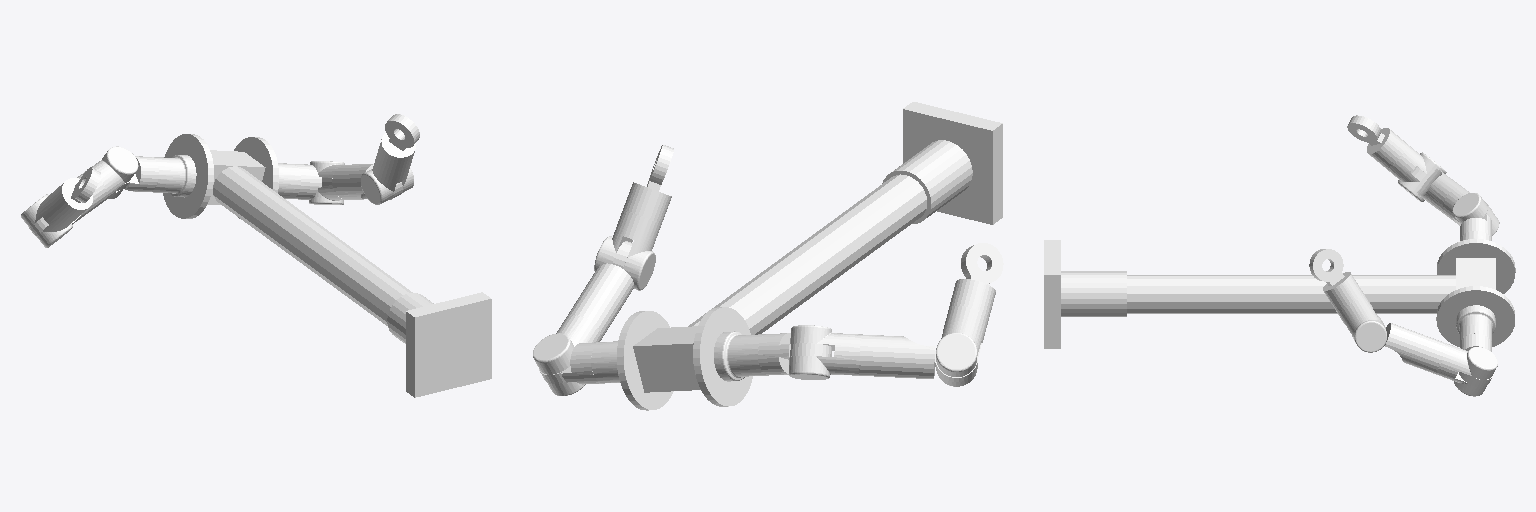
robot.urdf — double_arm_robot:
<?xml version="1.0" encoding="utf-8"?>
<!-- This URDF was automatically created by SolidWorks to URDF Exporter! Originally created by Stephen Brawner (brawner@gmail.com) 
     Commit Version: 1.6.0-4-g7f85cfe  Build Version: 1.6.7995.38578
     For more information, please see http://wiki.ros.org/sw_urdf_exporter -->
<robot
  name="double_arm_robot">
  <link
    name="base_link">
    <inertial>
      <origin
        xyz="-1.125 0.807484805961355 0.566243957566061"
        rpy="0 0 0" />
      <mass
        value="6.203760800518" />
      <inertia
        ixx="0.0551931956930665"
        ixy="-9.21965982208382E-36"
        ixz="2.30366305606409E-18"
        iyy="0.0551931956930665"
        iyz="0"
        izz="0.0400950472946025" />
    </inertial>
    <visual>
      <origin
        xyz="0 0 0"
        rpy="0 0 0" />
      <geometry>
        <mesh
          filename="package://double_arm_robot/meshes/base_link.STL" />
      </geometry>
      <material
        name="">
        <color
          rgba="1 1 1 1" />
      </material>
    </visual>
    <collision>
      <origin
        xyz="0 0 0"
        rpy="0 0 0" />
      <geometry>
        <mesh
          filename="package://double_arm_robot/meshes/base_link.STL" />
      </geometry>
    </collision>
  </link>
  <link
    name="yao_Link">
    <inertial>
      <origin
        xyz="2.77555756156289E-16 0 -0.233812061087759"
        rpy="0 0 0" />
      <mass
        value="14.975889643634" />
      <inertia
        ixx="1.68932797249582"
        ixy="0"
        ixz="3.77992531563176E-17"
        iyy="1.68475843799339"
        iyz="-2.29291639558158E-17"
        izz="0.0371712031763964" />
    </inertial>
    <visual>
      <origin
        xyz="0 0 0"
        rpy="0 0 0" />
      <geometry>
        <mesh
          filename="package://double_arm_robot/meshes/yao_Link.STL" />
      </geometry>
      <material
        name="">
        <color
          rgba="1 1 1 1" />
      </material>
    </visual>
    <collision>
      <origin
        xyz="0 0 0"
        rpy="0 0 0" />
      <geometry>
        <mesh
          filename="package://double_arm_robot/meshes/yao_Link.STL" />
      </geometry>
    </collision>
  </link>
  <joint
    name="yao_joint"
    type="continuous">
    <origin
      xyz="-1.125 0 0.80748"
      rpy="-1.5708 1.2983 -3.1416" />
    <parent
      link="base_link" />
    <child
      link="yao_Link" />
    <axis
      xyz="0 0 1" />
  </joint>
  <link
    name="r_Link">
    <inertial>
      <origin
        xyz="1.11022302462516E-16 -1.66533453693773E-16 0.0669618145391296"
        rpy="0 0 0" />
      <mass
        value="0.153305432748164" />
      <inertia
        ixx="0.000503274623701957"
        ixy="-3.79470760369927E-19"
        ixz="-5.78229015238496E-19"
        iyy="0.000435379746264521"
        iyz="5.89057192344332E-19"
        izz="0.000241773436046529" />
    </inertial>
    <visual>
      <origin
        xyz="0 0 0"
        rpy="0 0 0" />
      <geometry>
        <mesh
          filename="package://double_arm_robot/meshes/r_Link.STL" />
      </geometry>
      <material
        name="">
        <color
          rgba="1 1 1 1" />
      </material>
    </visual>
    <collision>
      <origin
        xyz="0 0 0"
        rpy="0 0 0" />
      <geometry>
        <mesh
          filename="package://double_arm_robot/meshes/r_Link.STL" />
      </geometry>
    </collision>
  </link>
  <joint
    name="r_joint"
    type="continuous">
    <origin
      xyz="0 0.25246 -0.65672"
      rpy="-1.5708 -0.39051 0" />
    <parent
      link="yao_Link" />
    <child
      link="r_Link" />
    <axis
      xyz="0 0 1" />
  </joint>
  <link
    name="rjb_Link">
    <inertial>
      <origin
        xyz="-6.32678639478357E-08 -4.46311429369572E-07 0.0251799998032097"
        rpy="0 0 0" />
      <mass
        value="0.243891100878861" />
      <inertia
        ixx="0.000862201995142612"
        ixy="-3.75611319745377E-10"
        ixz="3.45279526168662E-11"
        iyy="0.000749440520195565"
        iyz="1.72883617672952E-10"
        izz="0.000579506045254298" />
    </inertial>
    <visual>
      <origin
        xyz="0 0 0"
        rpy="0 0 0" />
      <geometry>
        <mesh
          filename="package://double_arm_robot/meshes/rjb_Link.STL" />
      </geometry>
      <material
        name="">
        <color
          rgba="1 1 1 1" />
      </material>
    </visual>
    <collision>
      <origin
        xyz="0 0 0"
        rpy="0 0 0" />
      <geometry>
        <mesh
          filename="package://double_arm_robot/meshes/rjb_Link.STL" />
      </geometry>
    </collision>
  </link>
  <joint
    name="rjb_joint"
    type="revolute">
    <origin
      xyz="0 0 0.10754"
      rpy="3.1416 -1.4917 -1.5708" />
    <parent
      link="r_Link" />
    <child
      link="rjb_Link" />
    <axis
      xyz="0 1 0" />
    <limit
      lower="0"
      upper="3.14"
      effort="0"
      velocity="0" />
  </joint>
  <link
    name="rb_Link">
    <inertial>
      <origin
        xyz="0.00276174805506835 -5.25717192223496E-07 0.182206640005679"
        rpy="0 0 0" />
      <mass
        value="0.2480854466101" />
      <inertia
        ixx="0.00177958996518208"
        ixy="-4.5370137477353E-09"
        ixz="-1.69054299533855E-05"
        iyy="0.00181009821534032"
        iyz="-6.39250486732571E-10"
        izz="0.000439918103900342" />
    </inertial>
    <visual>
      <origin
        xyz="0 0 0"
        rpy="0 0 0" />
      <geometry>
        <mesh
          filename="package://double_arm_robot/meshes/rb_Link.STL" />
      </geometry>
      <material
        name="">
        <color
          rgba="1 1 1 1" />
      </material>
    </visual>
    <collision>
      <origin
        xyz="0 0 0"
        rpy="0 0 0" />
      <geometry>
        <mesh
          filename="package://double_arm_robot/meshes/rb_Link.STL" />
      </geometry>
    </collision>
  </link>
  <joint
    name="rb_joint"
    type="continuous">
    <origin
      xyz="0 0 0.074026"
      rpy="0 0 2.0331" />
    <parent
      link="rjb_Link" />
    <child
      link="rb_Link" />
    <axis
      xyz="0 0 1" />
  </joint>
  <link
    name="rw_Link">
    <inertial>
      <origin
        xyz="2.84768980618466E-08 -6.19162654480476E-09 0.0253486113712054"
        rpy="0 0 0" />
      <mass
        value="0.244923378836705" />
      <inertia
        ixx="0.000865180622488072"
        ixy="-6.72942956723023E-10"
        ixz="1.67325732642384E-10"
        iyy="0.000751349065549279"
        iyz="1.28699428304996E-10"
        izz="0.000580753904014795" />
    </inertial>
    <visual>
      <origin
        xyz="0 0 0"
        rpy="0 0 0" />
      <geometry>
        <mesh
          filename="package://double_arm_robot/meshes/rw_Link.STL" />
      </geometry>
      <material
        name="">
        <color
          rgba="1 1 1 1" />
      </material>
    </visual>
    <collision>
      <origin
        xyz="0 0 0"
        rpy="0 0 0" />
      <geometry>
        <mesh
          filename="package://double_arm_robot/meshes/rw_Link.STL" />
      </geometry>
    </collision>
  </link>
  <joint
    name="rw_joint"
    type="revolute">
    <origin
      xyz="0 0 0.27797"
      rpy="0 0.63873 0" />
    <parent
      link="rb_Link" />
    <child
      link="rw_Link" />
    <axis
      xyz="0 1 0" />
    <limit
      lower="0"
      upper="3.14"
      effort="0"
      velocity="0" />
  </joint>
  <link
    name="rs_Link">
    <inertial>
      <origin
        xyz="2.55351295663786E-15 -6.66133814775094E-16 0.135094994862889"
        rpy="0 0 0" />
      <mass
        value="0.155545815452268" />
      <inertia
        ixx="0.00053649500591798"
        ixy="1.35525271560688E-20"
        ixz="-1.01982766849418E-18"
        iyy="0.00048785930887372"
        iyz="1.55176435936988E-18"
        izz="0.000240768812265731" />
    </inertial>
    <visual>
      <origin
        xyz="0 0 0"
        rpy="0 0 0" />
      <geometry>
        <mesh
          filename="package://double_arm_robot/meshes/rs_Link.STL" />
      </geometry>
      <material
        name="">
        <color
          rgba="1 1 1 1" />
      </material>
    </visual>
    <collision>
      <origin
        xyz="0 0 0"
        rpy="0 0 0" />
      <geometry>
        <mesh
          filename="package://double_arm_robot/meshes/rs_Link.STL" />
      </geometry>
    </collision>
  </link>
  <joint
    name="rs_joint"
    type="continuous">
    <origin
      xyz="0 0 0.067802"
      rpy="0 0 -1.2377" />
    <parent
      link="rw_Link" />
    <child
      link="rs_Link" />
    <axis
      xyz="0 0 1" />
  </joint>
  <link
    name="l_Link">
    <inertial>
      <origin
        xyz="-2.77555756156289E-16 4.44089209850063E-16 0.0669618145391302"
        rpy="0 0 0" />
      <mass
        value="0.153305432748165" />
      <inertia
        ixx="0.000503274623701959"
        ixy="-5.28548559086683E-19"
        ixz="1.68574825405926E-18"
        iyy="0.000435379746264523"
        iyz="-1.11246539454985E-18"
        izz="0.000241773436046529" />
    </inertial>
    <visual>
      <origin
        xyz="0 0 0"
        rpy="0 0 0" />
      <geometry>
        <mesh
          filename="package://double_arm_robot/meshes/l_Link.STL" />
      </geometry>
      <material
        name="">
        <color
          rgba="1 1 1 1" />
      </material>
    </visual>
    <collision>
      <origin
        xyz="0 0 0"
        rpy="0 0 0" />
      <geometry>
        <mesh
          filename="package://double_arm_robot/meshes/l_Link.STL" />
      </geometry>
    </collision>
  </link>
  <joint
    name="l_joint"
    type="continuous">
    <origin
      xyz="0 -0.25246 -0.65672"
      rpy="-1.5708 -0.52774 3.1416" />
    <parent
      link="yao_Link" />
    <child
      link="l_Link" />
    <axis
      xyz="0 0 1" />
  </joint>
  <link
    name="ljb_Link">
    <inertial>
      <origin
        xyz="3.57822389496221E-08 8.45718606257151E-09 0.0251794676379651"
        rpy="0 0 0" />
      <mass
        value="0.24388844658706" />
      <inertia
        ixx="0.000862202033890704"
        ixy="-4.4275673375554E-10"
        ixz="-3.87262929515096E-12"
        iyy="0.00074944050688781"
        iyz="9.90855050325657E-11"
        izz="0.000579506039789357" />
    </inertial>
    <visual>
      <origin
        xyz="0 0 0"
        rpy="0 0 0" />
      <geometry>
        <mesh
          filename="package://double_arm_robot/meshes/ljb_Link.STL" />
      </geometry>
      <material
        name="">
        <color
          rgba="1 1 1 1" />
      </material>
    </visual>
    <collision>
      <origin
        xyz="0 0 0"
        rpy="0 0 0" />
      <geometry>
        <mesh
          filename="package://double_arm_robot/meshes/ljb_Link.STL" />
      </geometry>
    </collision>
  </link>
  <joint
    name="ljb_joint"
    type="revolute">
    <origin
      xyz="0 0 0.10754"
      rpy="0 0.56769 -1.5708" />
    <parent
      link="l_Link" />
    <child
      link="ljb_Link" />
    <axis
      xyz="0 1 0" />
    <limit
      lower="0"
      upper="3.14"
      effort="0"
      velocity="0" />
  </joint>
  <link
    name="lb_Link">
    <inertial>
      <origin
        xyz="0.00276184664184054 -5.03633065918052E-07 0.0772804730071093"
        rpy="0 0 0" />
      <mass
        value="0.248084871531775" />
      <inertia
        ixx="0.00177958843288729"
        ixy="-3.66287735776086E-09"
        ixz="-1.69047530917435E-05"
        iyy="0.00181009557204282"
        iyz="-2.42344449521113E-10"
        izz="0.000439916657544921" />
    </inertial>
    <visual>
      <origin
        xyz="0 0 0"
        rpy="0 0 0" />
      <geometry>
        <mesh
          filename="package://double_arm_robot/meshes/lb_Link.STL" />
      </geometry>
      <material
        name="">
        <color
          rgba="1 1 1 1" />
      </material>
    </visual>
    <collision>
      <origin
        xyz="0 0 0"
        rpy="0 0 0" />
      <geometry>
        <mesh
          filename="package://double_arm_robot/meshes/lb_Link.STL" />
      </geometry>
    </collision>
  </link>
  <joint
    name="lb_joint"
    type="continuous">
    <origin
      xyz="0 0 0.17895"
      rpy="0 0 -1.7458" />
    <parent
      link="ljb_Link" />
    <child
      link="lb_Link" />
    <axis
      xyz="0 0 1" />
  </joint>
  <link
    name="lw_Link">
    <inertial>
      <origin
        xyz="2.76744671623419E-07 -4.41421789787455E-07 0.0253484833257516"
        rpy="0 0 0" />
      <mass
        value="0.244920174808673" />
      <inertia
        ixx="0.00086518038593815"
        ixy="-4.76547608435607E-10"
        ixz="2.62299340762578E-10"
        iyy="0.000751349132590086"
        iyz="6.97497359349042E-11"
        izz="0.000580753986916928" />
    </inertial>
    <visual>
      <origin
        xyz="0 0 0"
        rpy="0 0 0" />
      <geometry>
        <mesh
          filename="package://double_arm_robot/meshes/lw_Link.STL" />
      </geometry>
      <material
        name="">
        <color
          rgba="1 1 1 1" />
      </material>
    </visual>
    <collision>
      <origin
        xyz="0 0 0"
        rpy="0 0 0" />
      <geometry>
        <mesh
          filename="package://double_arm_robot/meshes/lw_Link.STL" />
      </geometry>
    </collision>
  </link>
  <joint
    name="lw_joint"
    type="revolute">
    <origin
      xyz="0 0 0.17305"
      rpy="0 1.3758 3.1416" />
    <parent
      link="lb_Link" />
    <child
      link="lw_Link" />
    <axis
      xyz="0 1 0" />
    <limit
      lower="0"
      upper="3.14"
      effort="0"
      velocity="0" />
  </joint>
  <link
    name="ls_Link">
    <inertial>
      <origin
        xyz="-2.22044604925031E-16 4.9960036108132E-16 0.161573270254131"
        rpy="0 0 0" />
      <mass
        value="0.155545815452271" />
      <inertia
        ixx="0.000536495005917985"
        ixy="2.50721752387273E-19"
        ixz="1.62630325872826E-19"
        iyy="0.000487859308873725"
        iyz="-9.6900569165892E-19"
        izz="0.000240768812265735" />
    </inertial>
    <visual>
      <origin
        xyz="0 0 0"
        rpy="0 0 0" />
      <geometry>
        <mesh
          filename="package://double_arm_robot/meshes/ls_Link.STL" />
      </geometry>
      <material
        name="">
        <color
          rgba="1 1 1 1" />
      </material>
    </visual>
    <collision>
      <origin
        xyz="0 0 0"
        rpy="0 0 0" />
      <geometry>
        <mesh
          filename="package://double_arm_robot/meshes/ls_Link.STL" />
      </geometry>
    </collision>
  </link>
  <joint
    name="ls_joint"
    type="continuous">
    <origin
      xyz="0 0 0.041324"
      rpy="0 0 2.0334" />
    <parent
      link="lw_Link" />
    <child
      link="ls_Link" />
    <axis
      xyz="0 0 1" />
  </joint>
</robot>

--- What the picture shows (computed from the rendered views, not written in the file) ---
The picture shows the robot from 3 angles, left to right: view 1: azimuth 30°, elevation 25°; view 2: azimuth 150°, elevation 25°; view 3: azimuth 270°, elevation 25°; orthographic projection.
Model double_arm_robot with 12 links and 11 joints (4 revolute, 7 continuous), rooted at base_link, posed every joint at zero.
Visible links, largest first — view 1: yao_Link, base_link, rs_Link, ls_Link, ljb_Link, rw_Link, lw_Link, rb_Link, rjb_Link, l_Link, r_Link, lb_Link; view 2: yao_Link, base_link, lb_Link, lw_Link, ljb_Link, rb_Link, rw_Link, rjb_Link, ls_Link, rs_Link, l_Link, r_Link; view 3: yao_Link, base_link, rjb_Link, rb_Link, rs_Link, rw_Link, ls_Link, lw_Link, ljb_Link, lb_Link, r_Link.
Boxes of the visible links, x1,y1,x2,y2 form: yao_Link: (152,134,412,325); base_link: (387,292,491,397); rs_Link: (377,114,419,171); ls_Link: (51,167,100,219); ljb_Link: (83,146,138,200); rw_Link: (361,156,413,204); lw_Link: (21,193,76,247); rb_Link: (332,164,402,199); rjb_Link: (309,161,344,204); l_Link: (100,156,158,191); r_Link: (293,164,321,199); lb_Link: (29,174,105,235); yao_Link: (591,174,926,410); base_link: (882,102,1002,224); lb_Link: (859,334,977,381); lw_Link: (936,306,988,386); ljb_Link: (789,325,860,379); rb_Link: (566,241,633,339); rw_Link: (594,210,661,290); rjb_Link: (533,315,600,395); ls_Link: (949,243,1003,316); rs_Link: (623,145,673,223); l_Link: (758,333,831,374); r_Link: (539,342,602,384); yao_Link: (1127,231,1515,346); base_link: (1044,240,1126,348); rjb_Link: (1435,343,1497,396); rb_Link: (1352,317,1445,373); rs_Link: (1309,249,1362,309); rw_Link: (1335,293,1386,352); ls_Link: (1347,115,1405,167); lw_Link: (1386,143,1446,201); ljb_Link: (1443,188,1499,235); lb_Link: (1411,166,1464,213); r_Link: (1459,333,1493,386).
Size in the robot's own frame: 1.15 by 1.43 by 0.4821 metres.
Meshes: 12 distinct files referenced, 12 mesh visuals loaded (12 binary STL).
